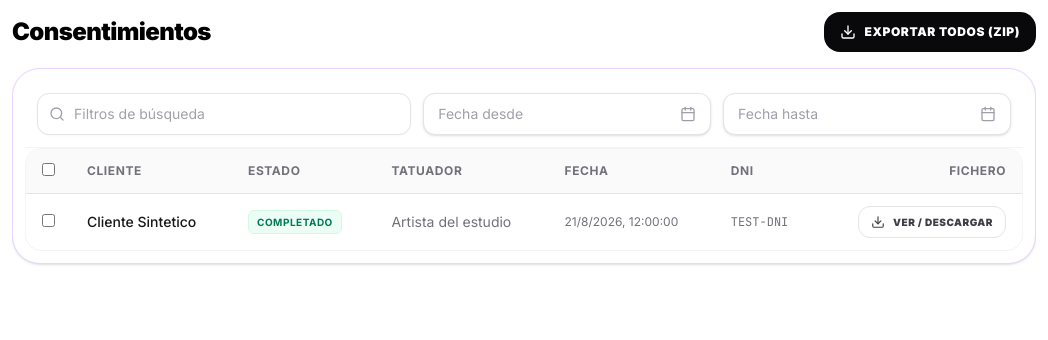
Test: ConsentsManager immutable individual download › reports an unavailable or unauthorized final file without false success
Click the button "Ver / descargar": (932, 222) [858,206,1006,238]
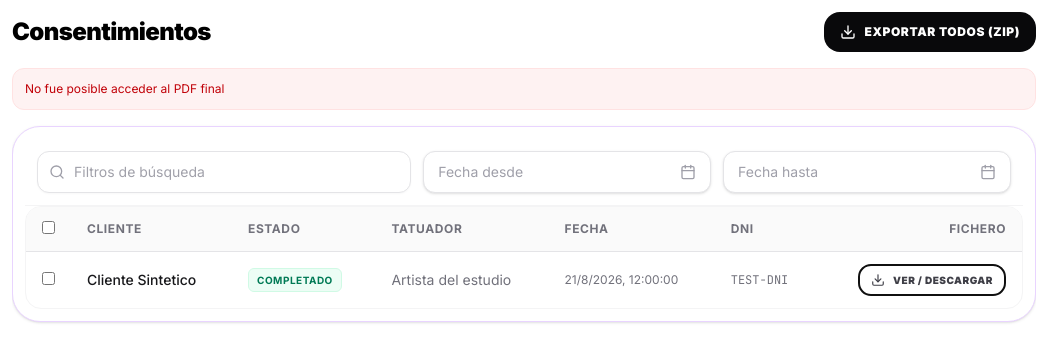
Expected: the text "No fue posible acceder al PDF final" is shown, [12,68,1036,110]
